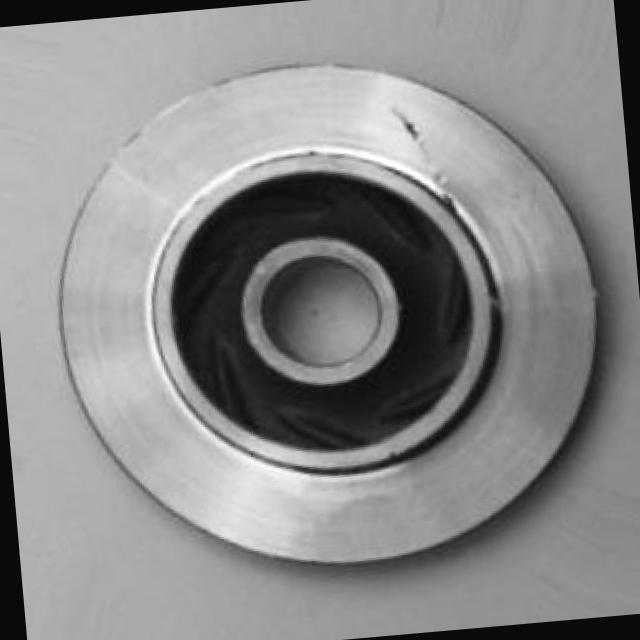Defect: (382, 102, 432, 156)
